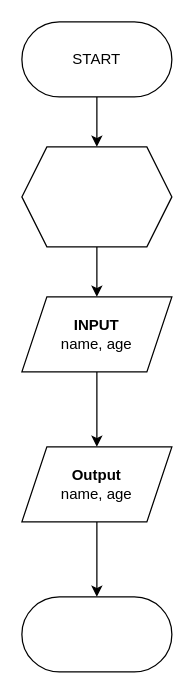
The diagram is 194 pixels wide and 694 high, and some of its shapes have lost their labels. The centre of each missing label's shape, as x and y in pixels:
"END" goes at point 96,634.
"name = null age = null" goes at point 96,196.
